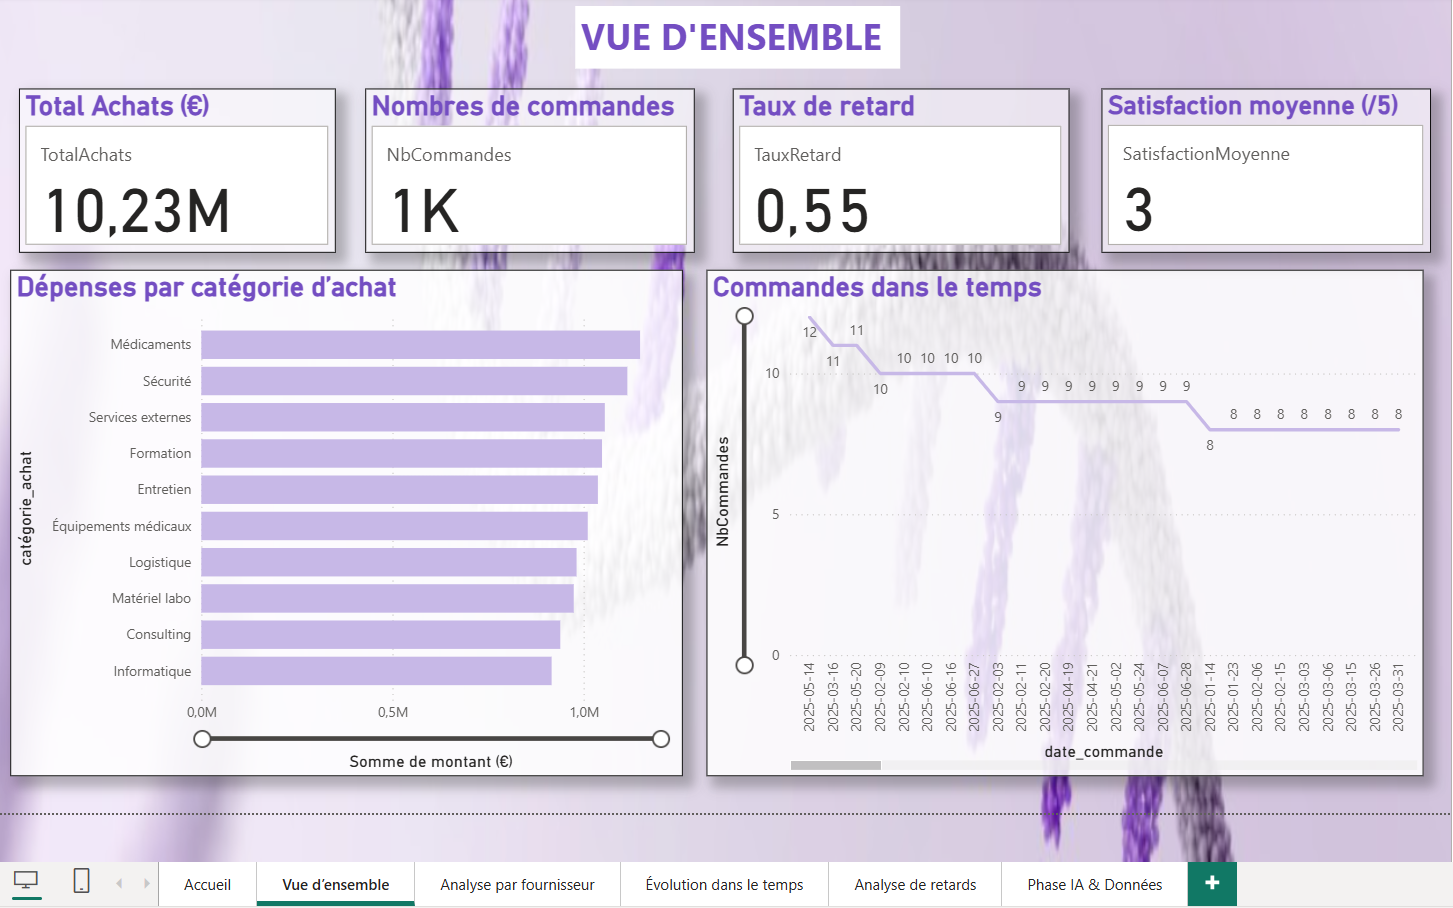

The dashboard page shown, as its layout file describes it:
{"tool":"powerbi","page":{"name":"Vue d’ensemble","canvas":[1280,720],"ordinal":1},"visuals":[{"type":"cardVisual","title":"Total Achats (€)","fields":{"Data":["procuresenseai_data_sanofi.TotalAchats"]},"box":[17.3,81.6,279.1,145.1],"z":0},{"type":"cardVisual","title":"Nombres de commandes","fields":{"Data":["procuresenseai_data_sanofi.NbCommandes"]},"box":[323.2,81.6,290.1,145.1],"z":1000},{"type":"cardVisual","title":"Taux de retard","fields":{"Data":["procuresenseai_data_sanofi.TauxRetard"]},"box":[646.4,81.6,296.4,145.1],"z":2000},{"type":"clusteredBarChart","title":"Dépenses par catégorie d’achat","fields":{"Category":["procuresenseai_data_sanofi.catégorie_achat"],"Y":["Sum(procuresenseai_data_sanofi.montant (€))"]},"box":[10.5,241.7,593.1,446.8],"z":3000},{"type":"lineChart","title":"Commandes dans le temps","fields":{"Category":["procuresenseai_data_sanofi.date_commande"],"Y":["procuresenseai_data_sanofi.NbCommandes"]},"box":[623.1,241.7,632.3,446.8],"z":4000},{"type":"cardVisual","title":"Satisfaction moyenne (/5)","fields":{"Data":["procuresenseai_data_sanofi.SatisfactionMoyenne"]},"box":[971.2,81.6,290.1,145.1],"z":5000},{"type":"textbox","box":[507.9,8.8,286.5,55.1],"z":6000}]}

Visuals, with their boxes in screenshot pixels (x1, y1, x2, y2):
"Total Achats (€)" cardVisual: 31, 88, 343, 250
"Nombres de commandes" cardVisual: 373, 88, 698, 250
"Taux de retard" cardVisual: 735, 88, 1067, 250
"Dépenses par catégorie d’achat" clusteredBarChart: 23, 267, 687, 767
"Commandes dans le temps" lineChart: 709, 267, 1417, 767
"Satisfaction moyenne (/5)" cardVisual: 1099, 88, 1423, 250
textbox: 580, 6, 901, 68
